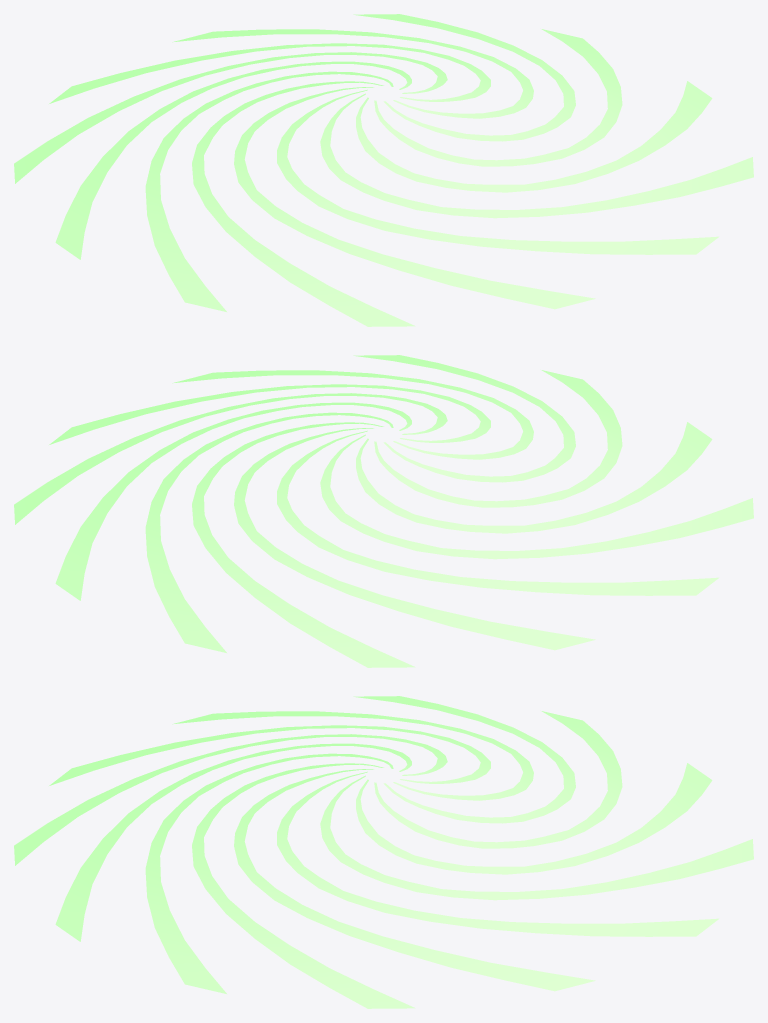
File: top_swirl.glb
3 views of the same model, one above another, from view 1: azimuth 30°, elevation 25°; view 2: azimuth 150°, elevation 25°; view 3: azimuth 270°, elevation 25° (orthographic).
Visible parts, largest first — view 1: top_swirl; view 2: top_swirl; view 3: top_swirl.
Boxes of the visible parts, x1,y1,x2,y2 form: top_swirl: (14,14,753,326); top_swirl: (14,355,753,667); top_swirl: (14,696,753,1008).
Bounding box in the file's own units: 30.12 × 3.45 × 30.12.
